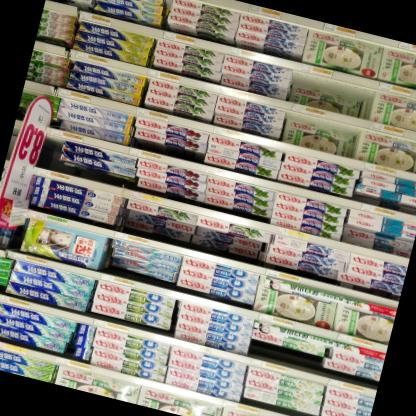empty_space: (38, 136, 66, 172), (5, 128, 20, 161)
